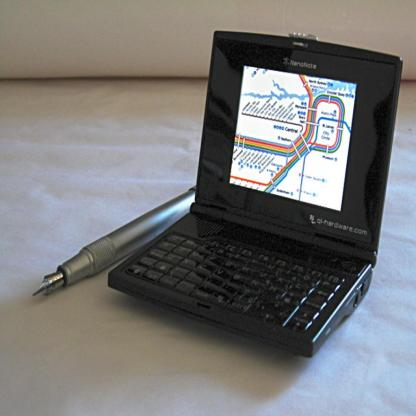board: (107, 33, 405, 356)
